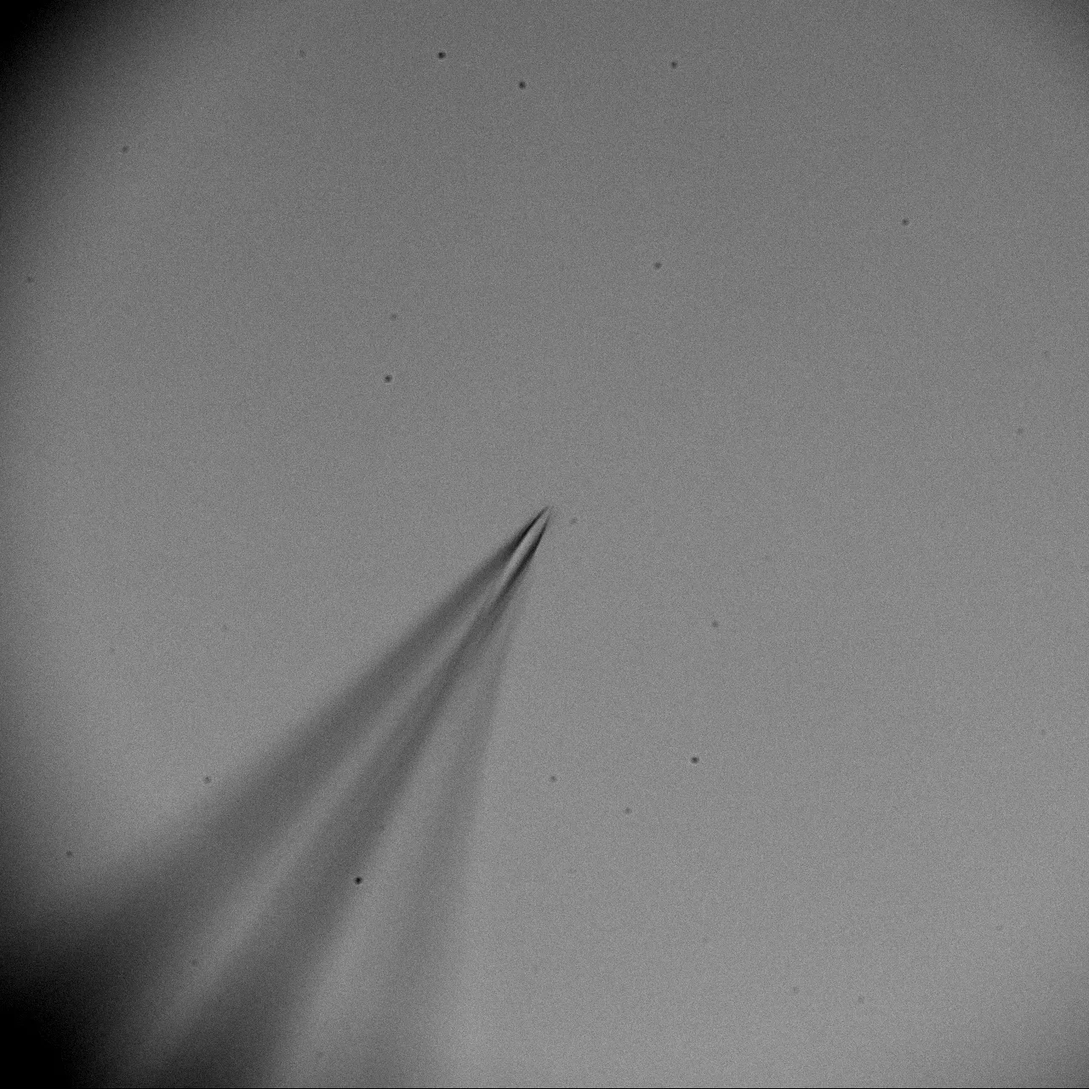tip: (476, 503, 569, 628)
